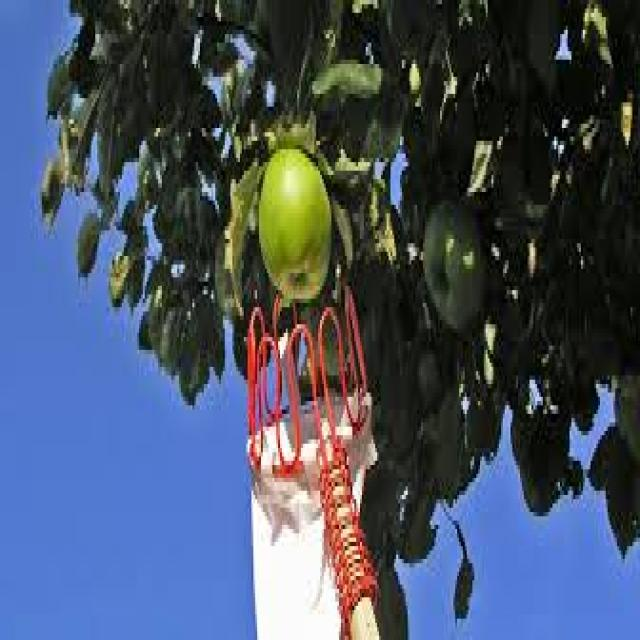Organik: (264, 159, 323, 301), (422, 199, 480, 333)
